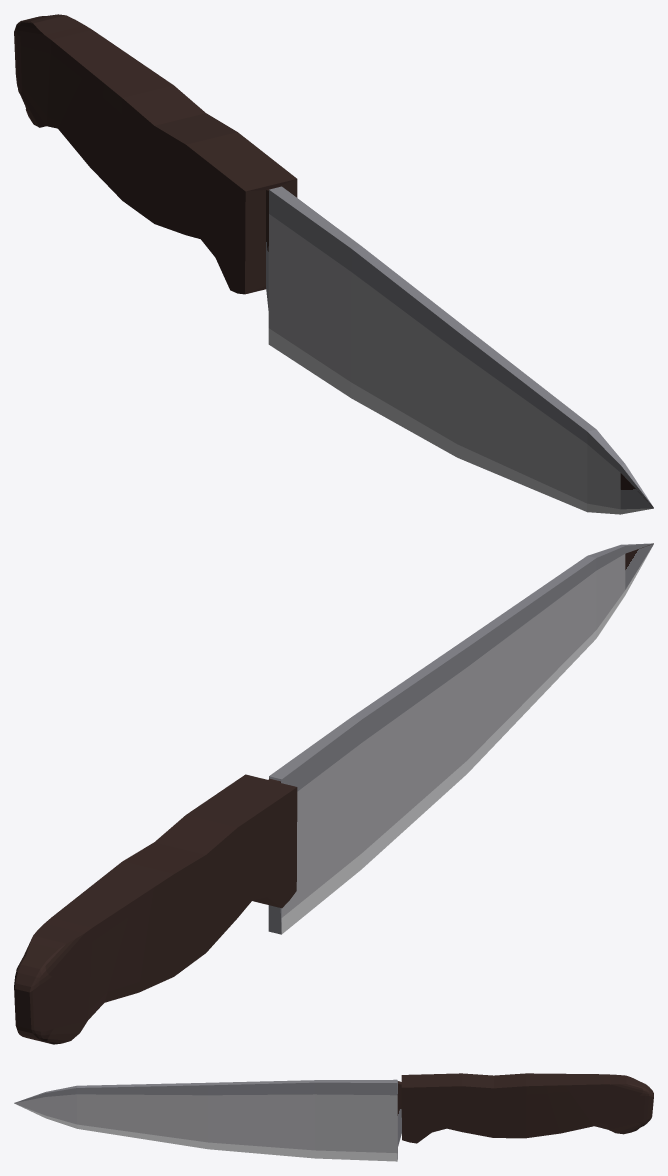
Rendered from Cuchillo.obj.
3 views of the same model, one above another, from view 1: azimuth 30°, elevation 25°; view 2: azimuth 150°, elevation 25°; view 3: azimuth 270°, elevation 25° (orthographic). The views are drawn at different scales.
Parts seen in each view (by area): view 1: Cube_Cube.002; view 2: Cube_Cube.002; view 3: Cube_Cube.002.
Part boxes in pixels (left/top/right/bottom): Cube_Cube.002: left=14, top=14, right=653, bottom=514; Cube_Cube.002: left=14, top=543, right=653, bottom=1044; Cube_Cube.002: left=14, top=1073, right=653, bottom=1161.
Size of the model in its own units: 0.00672 by 0.0197 by 0.1419.
1 material, 1 textured.
